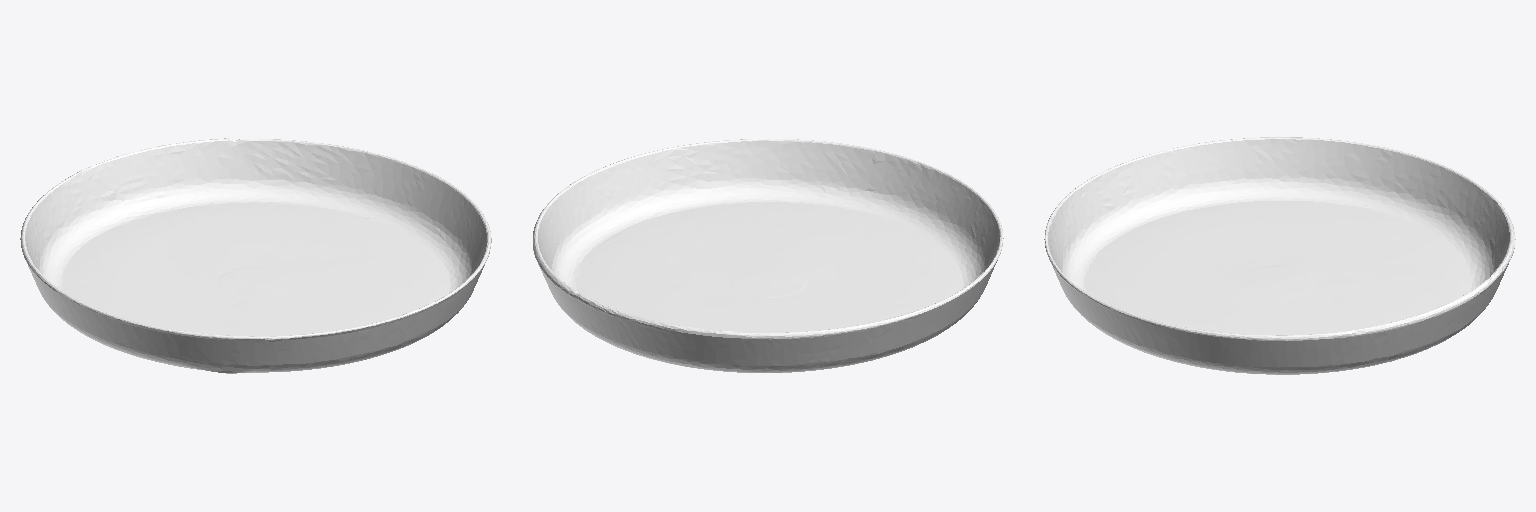
URDF robot description (model.urdf):
<?xml version="0.0" ?>
<robot name="model.urdf">
  <link name="baseLink">
    <contact>
      <friction_anchor/>
      <lateral_friction value="0.3"/>
      <rolling_friction value="0.0"/>
      <contact_cfm value="0.0"/>
      <contact_erp value="1.0"/>
    </contact>
    <inertial>
       <origin rpy="0 0 0" xyz="0 0 0"/>
       <mass value="0.1"/>
       <inertia ixx="8e-05" ixy="0" ixz="0" iyy="0.0002" iyz="0" izz="0.0002"/>
    </inertial>
    <visual>
      <geometry>
        <mesh filename="textured.obj" scale="1 1 1"/>
      </geometry>
      <material name="white">
        <color rgba="1. 1. 1. 1."/>
      </material>
    </visual>
    <collision>
      <geometry>
    	 	<mesh filename="collision.obj" scale="1 1 1"/>
      </geometry>
    </collision>
  </link>
</robot>

--- Facts derived from the render (not from the file) ---
3 views of the same robot in one strip: view 1: azimuth 30°, elevation 25°; view 2: azimuth 150°, elevation 25°; view 3: azimuth 270°, elevation 25° (orthographic).
Model model.urdf with 1 links and 0 joints (none), rooted at baseLink, posed all joints at 0.
Links seen in each view (by area): view 1: baseLink; view 2: baseLink; view 3: baseLink.
Boxes of the visible links, x1,y1,x2,y2 form: baseLink: (20,138,491,373); baseLink: (533,139,1003,372); baseLink: (1044,137,1515,374).
Size in the robot's own frame: 0.1852 by 0.1854 by 0.0253 metres.
Meshes: 1 distinct files referenced, 1 mesh visuals loaded (1 OBJ).